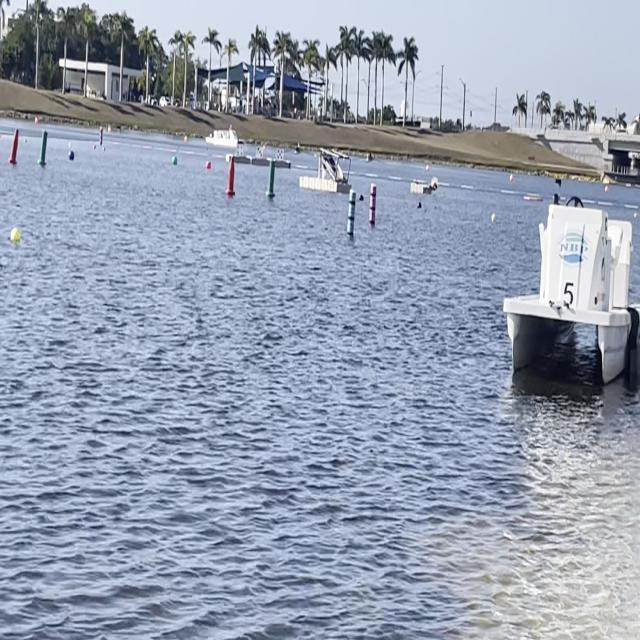buoy: (6, 224, 22, 247), (171, 153, 181, 170), (205, 158, 212, 176), (66, 150, 76, 162)
